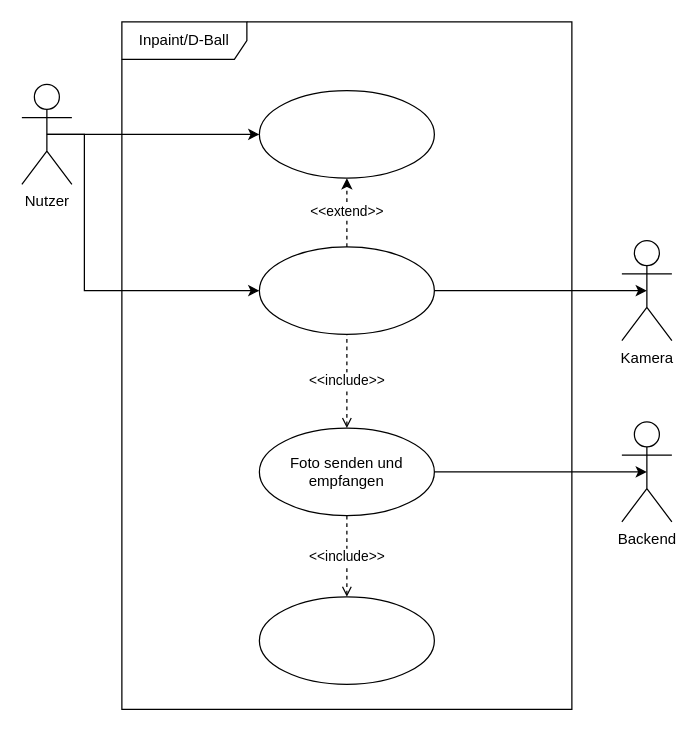
Image size: 698x731. Some labels were removed from this diagram. The shapes that lost their labels are listed below. From the top down, each one's centre as x and y in pixels, then its label:
At point 346,133: "Konfiguration wählen".
At point 346,290: "Foto aufnehmen".
At point 346,640: "Bearbeitetes Foto anzeigen".
